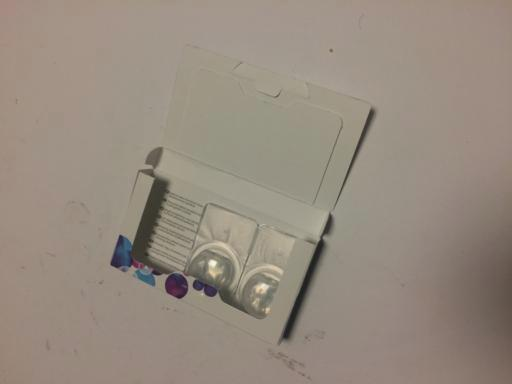trash: (107, 41, 376, 378)
